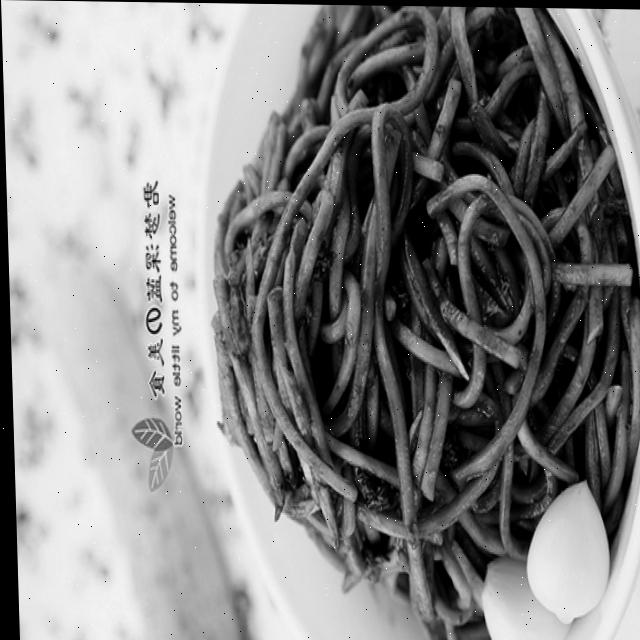面条主食: (144, 2, 640, 640)
